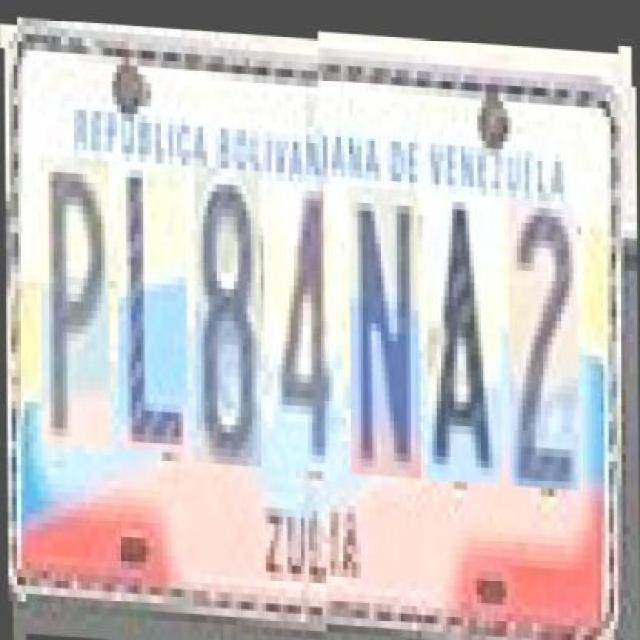2: (508, 189, 578, 482)
4: (270, 176, 342, 459)
8: (194, 154, 260, 454)
a: (426, 185, 502, 477)
l: (117, 151, 188, 443)
n: (349, 180, 420, 472)
p: (39, 146, 110, 439)
